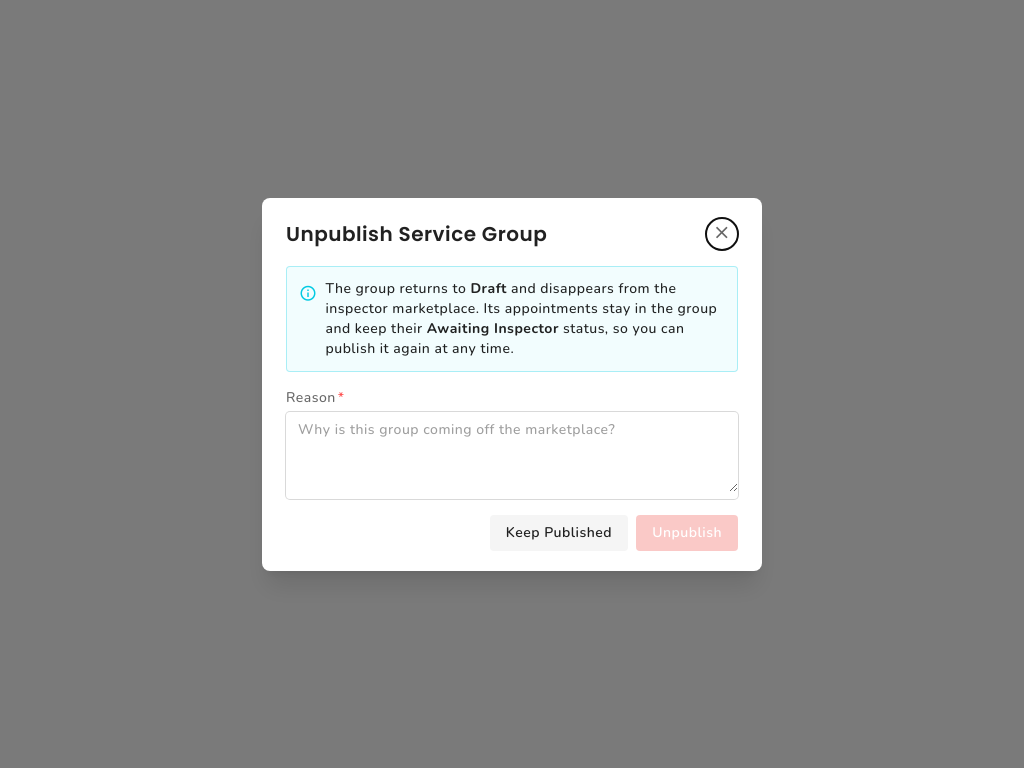
UnpublishGroupModal › keeps Unpublish disabled until a reason is typed
expect the button "Unpublish" is disabled: met, box [636,514,738,550]
Type "Wrong time window" into the text box named "Unpublish reason" at x=512, y=452, box [286,412,738,492]
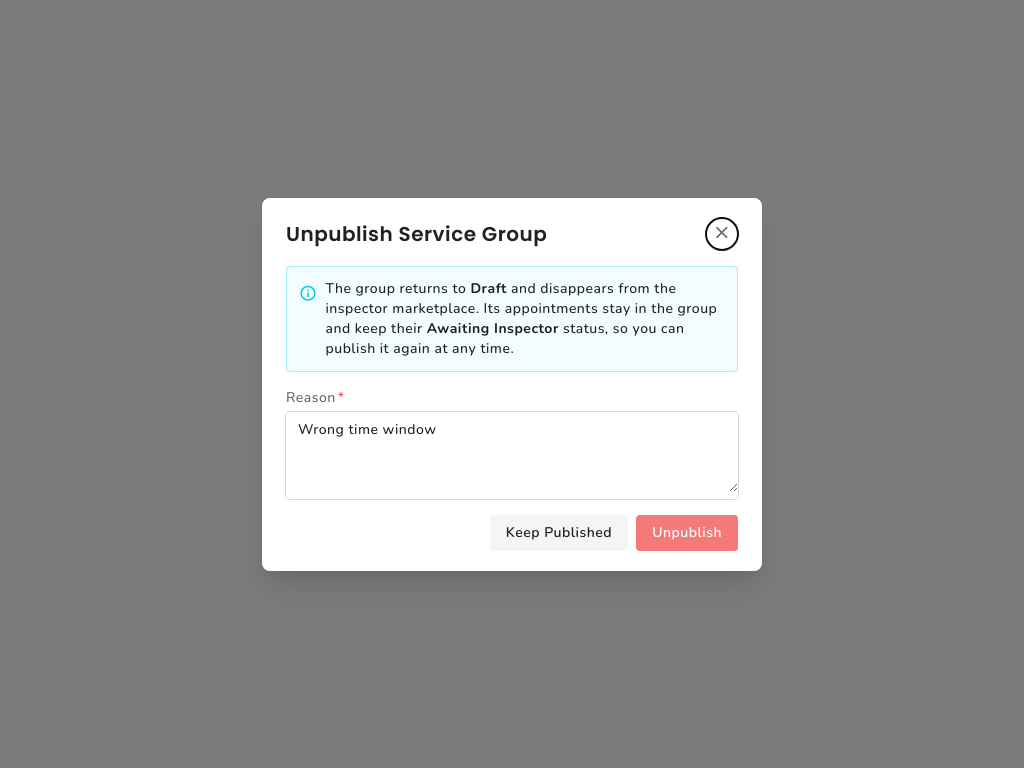
expect the button "Unpublish" is enabled: met, box [636,514,738,550]
